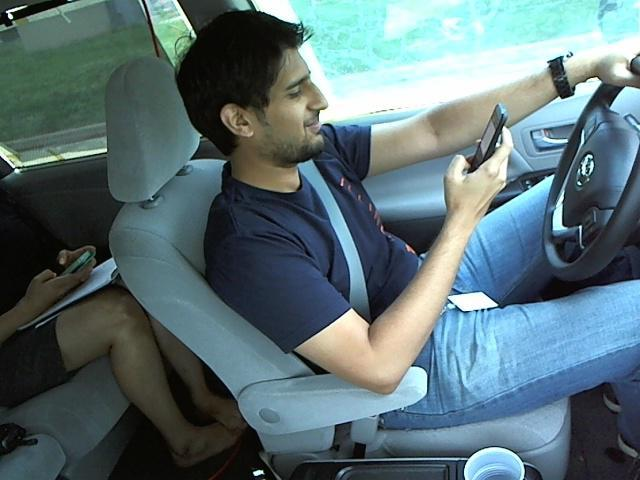PhoneUse: (456, 97, 515, 185)
